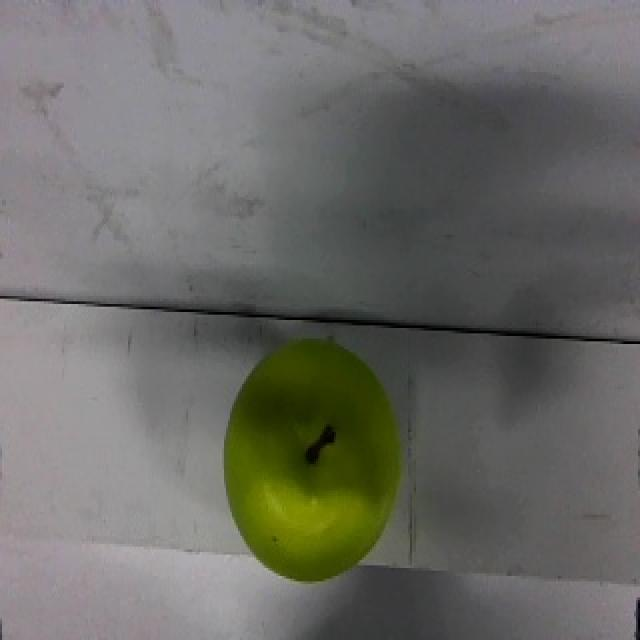apple: (220, 331, 404, 585)
